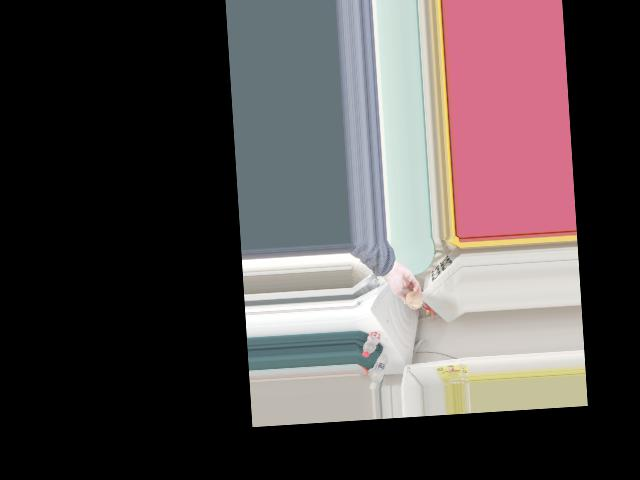sweet_potato: (404, 288, 421, 309)
